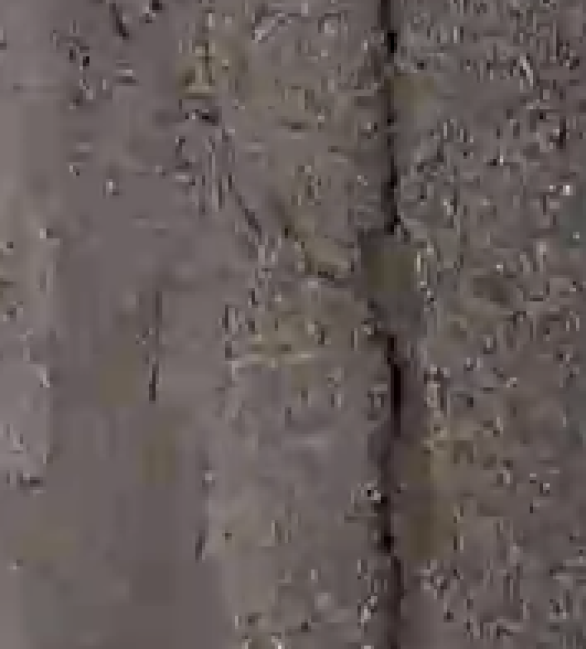Retak Melintang: (256, 1, 528, 649)
